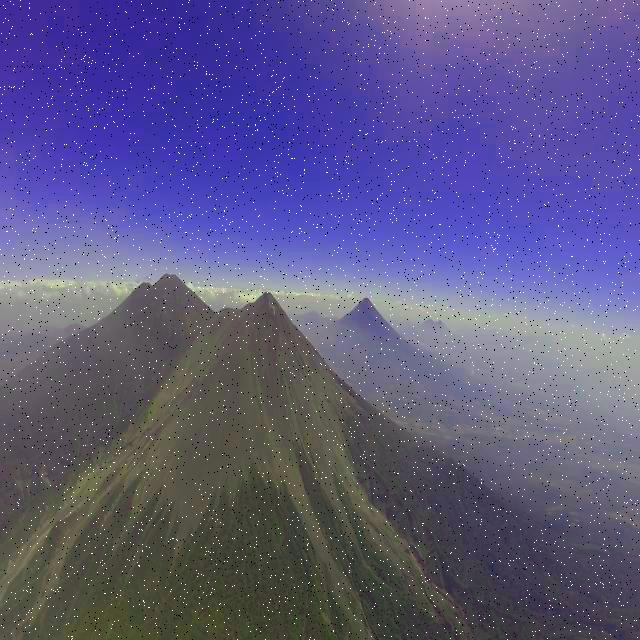Summit: (242, 290, 288, 320)
